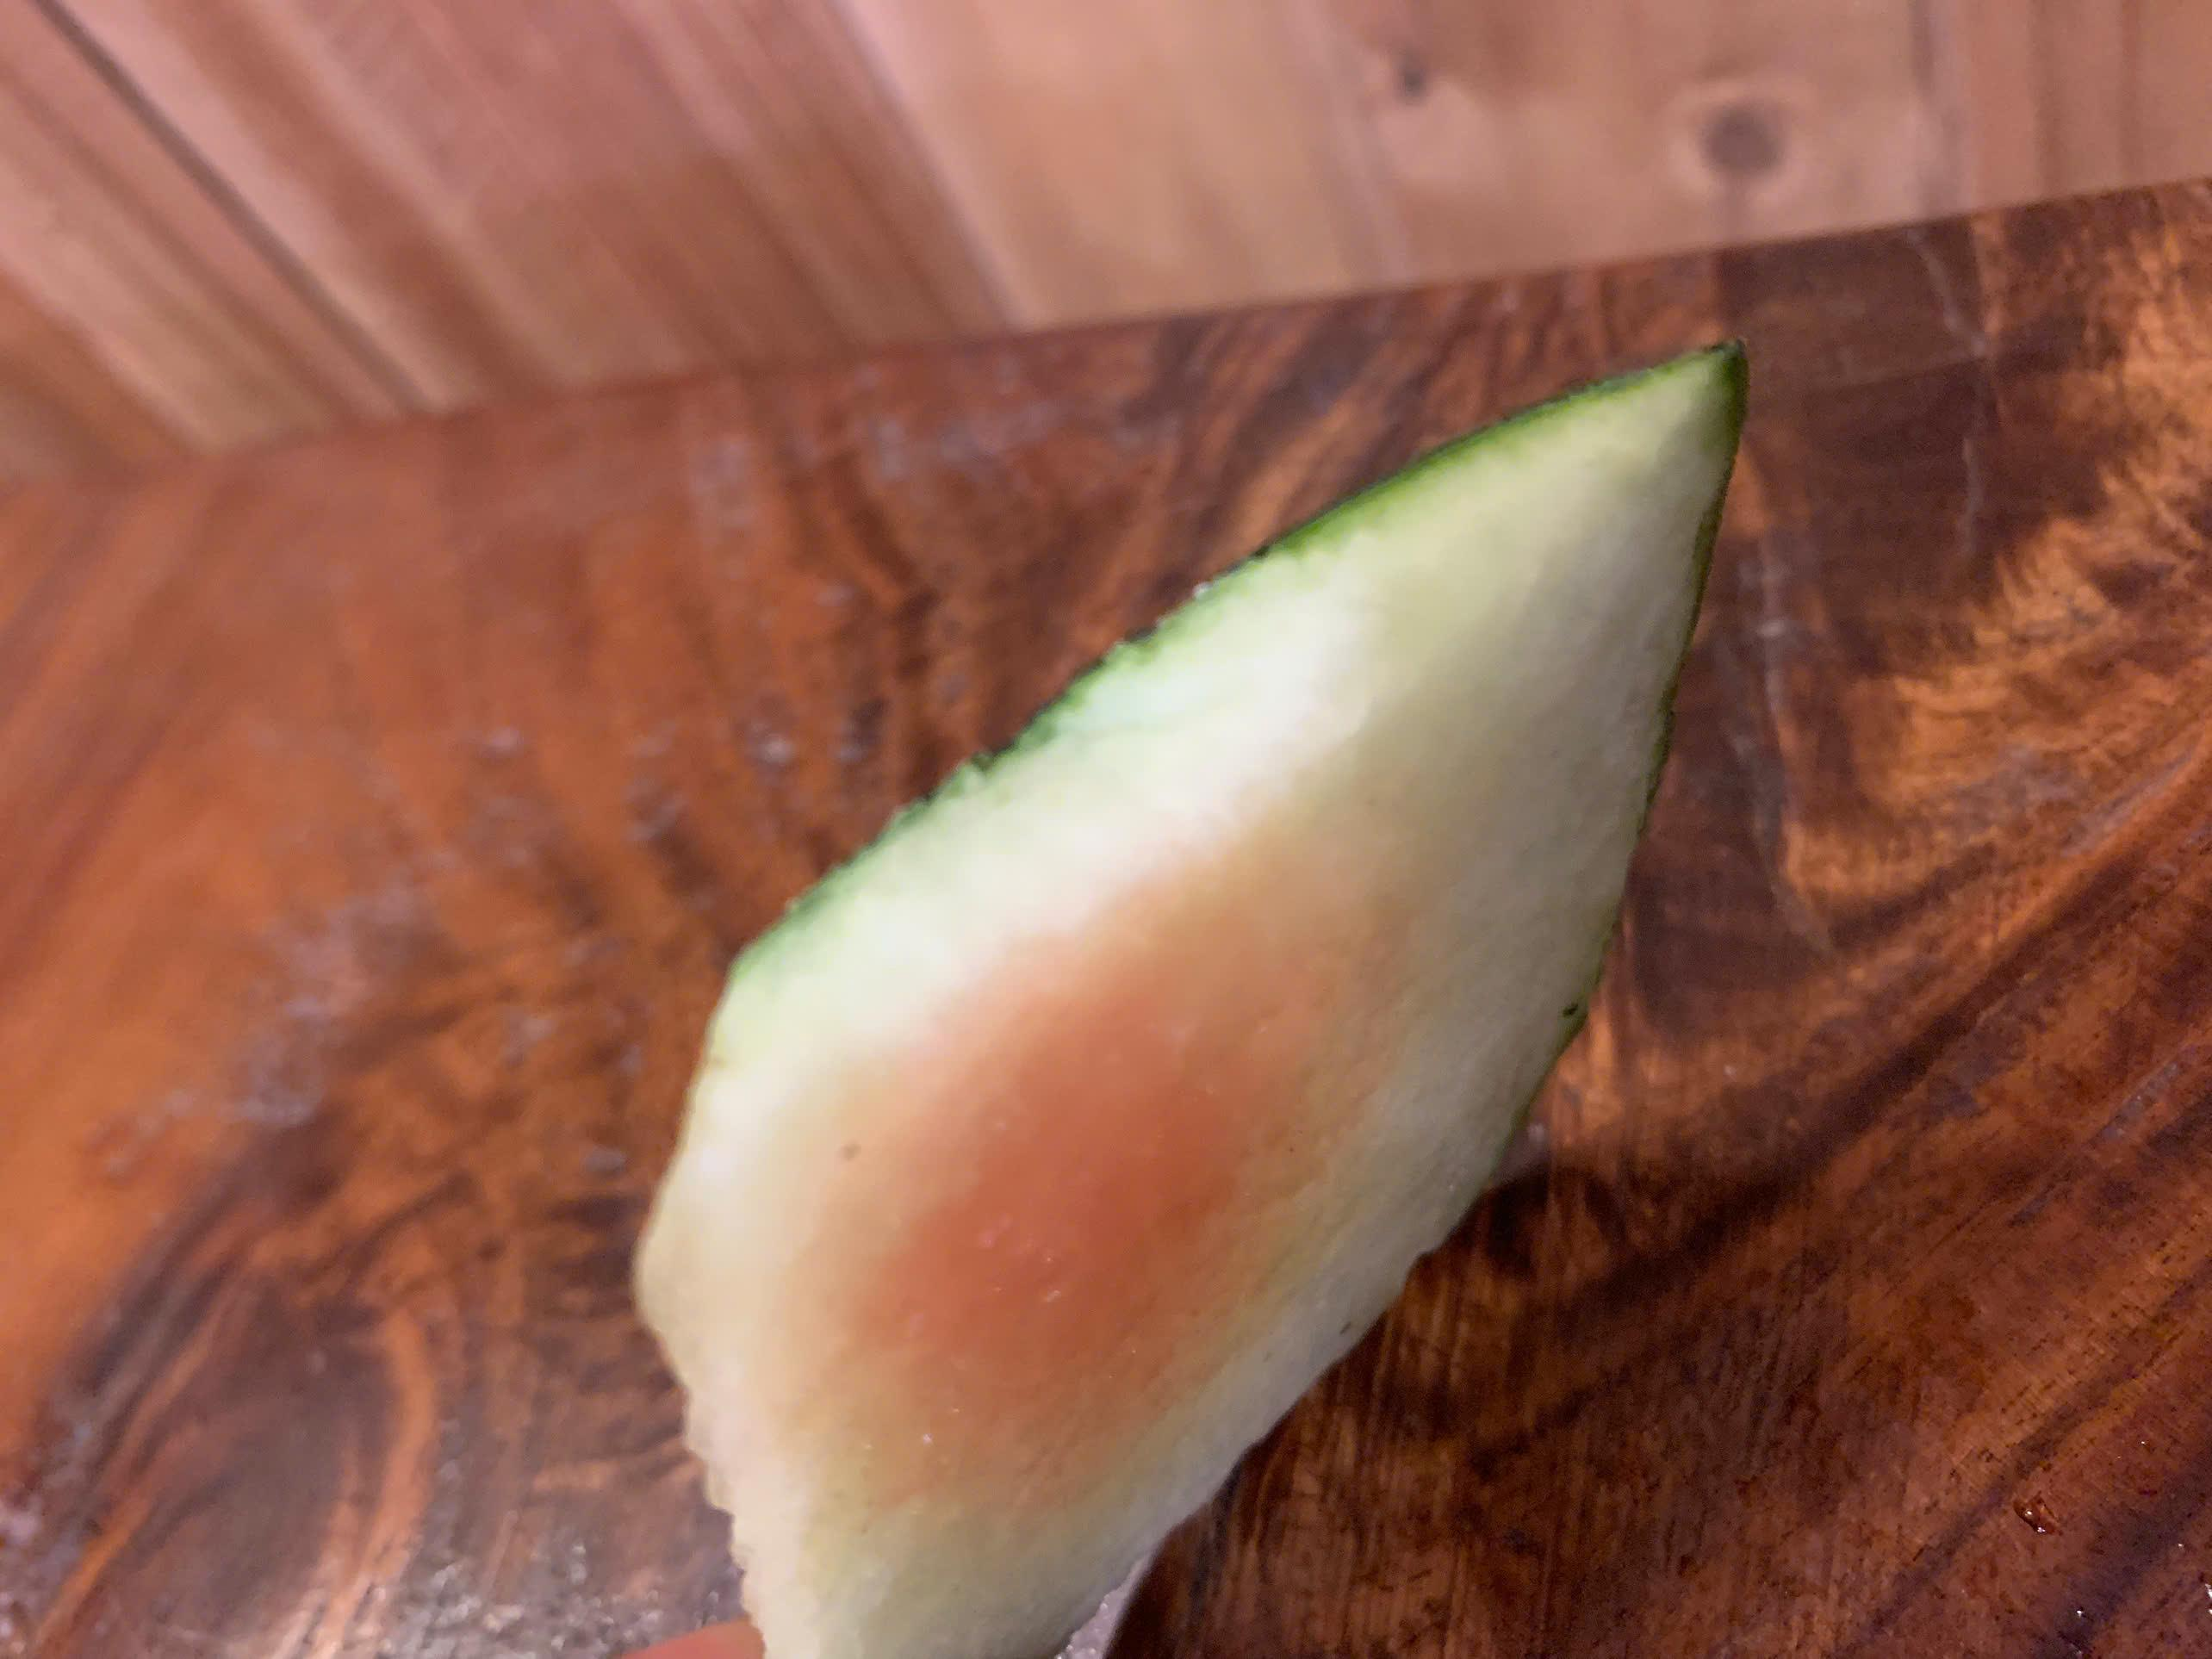Huu co: (646, 354, 1749, 1657)
